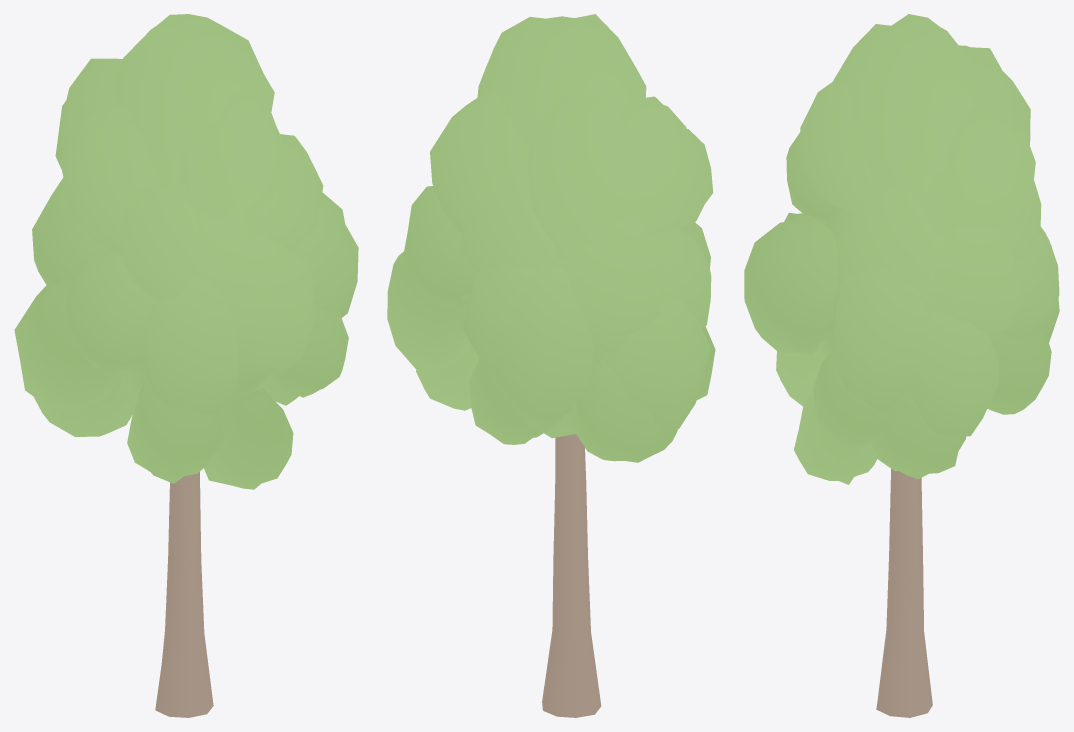
File: Blender_Alder_1.glb
3 renders of one model, left to right at view 1: azimuth 30°, elevation 25°; view 2: azimuth 150°, elevation 25°; view 3: azimuth 270°, elevation 25°, orthographic.
Parts seen in each view (by area): view 1: Blender_Alder_1; view 2: Blender_Alder_1; view 3: Blender_Alder_1.
Part boxes in pixels (left/top/right/bottom): Blender_Alder_1: left=14, top=14, right=358, bottom=717; Blender_Alder_1: left=387, top=14, right=715, bottom=717; Blender_Alder_1: left=744, top=14, right=1059, bottom=717.
Size of the model in its own units: 9.18 by 19.91 by 8.39.
